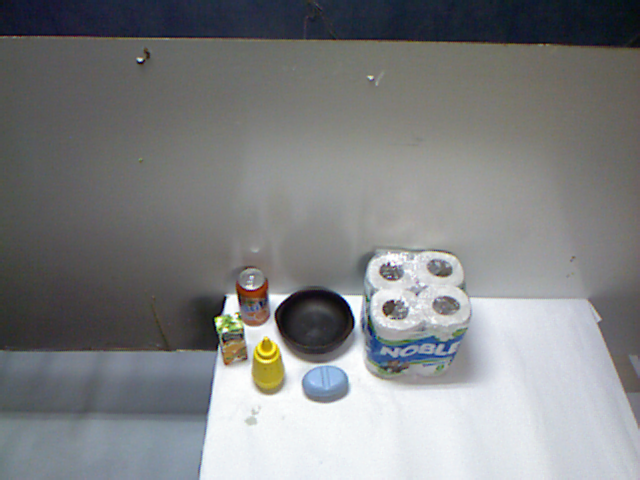coca: (217, 311, 260, 387)
durazno: (229, 274, 281, 334)
estuche: (379, 354, 479, 413)
linterna: (311, 351, 384, 416)
mantequilla: (262, 347, 321, 388)
uslero: (274, 304, 468, 358)
